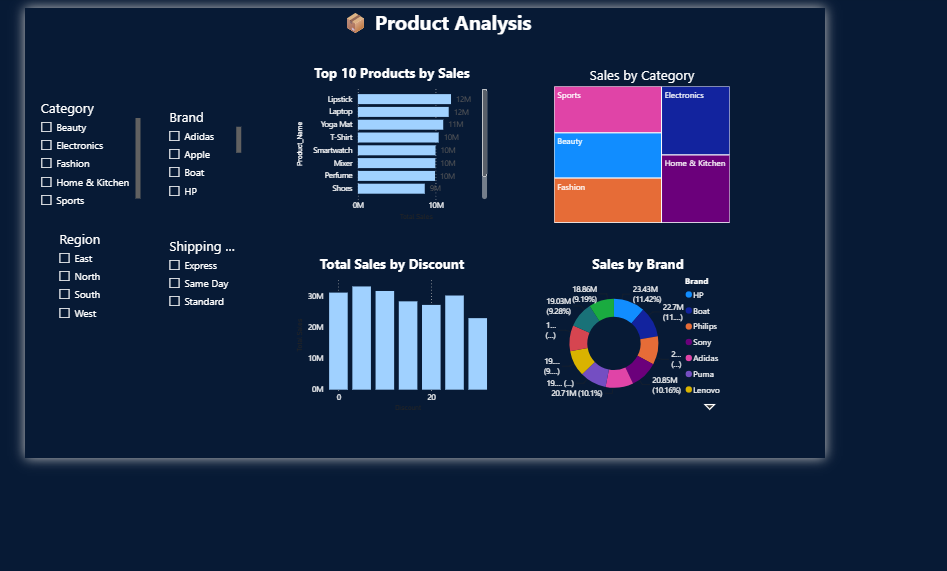

Layout of this report page (visuals, bound fields, positions):
{"tool":"powerbi","page":{"name":"Product Analysis","canvas":[1280,720],"ordinal":3},"visuals":[{"type":"shape","title":"📦 Product Analysis","box":[246,0,825,60],"z":0},{"type":"slicer","fields":{"Values":["Fact_Sales.Category"]},"box":[12.8,139,177.5,181.8],"z":1000},{"type":"slicer","fields":{"Values":["Fact_Sales.Region"]},"box":[42.8,350.8,117.6,158.3],"z":2000},{"type":"slicer","fields":{"Values":["Fact_Sales.Brand"]},"box":[218.2,154,132.6,151.9],"z":3000},{"type":"slicer","fields":{"Values":["Fact_Sales.Shipping Mode"]},"box":[218.2,359.4,149.7,149.7],"z":4000},{"type":"clusteredBarChart","title":"Top 10 Products by Sales","fields":{"Category":["Fact_Sales.Product_Name"],"Y":["Fact_Sales.Total Sales"]},"box":[430,87.7,314.4,256.7],"z":5000},{"type":"treemap","title":"Sales by Category","fields":{"Group":["Fact_Sales.Category"],"Values":["Fact_Sales.Total Sales"]},"box":[842.8,92,290.9,256.7],"z":6000},{"type":"donutChart","title":"Sales by Brand","fields":{"Category":["Fact_Sales.Brand"],"Y":["Fact_Sales.Total Sales"]},"box":[823.5,393.6,314,256.7],"z":7000},{"type":"columnChart","fields":{"Category":["Fact_Sales.Discount"],"Y":["Fact_Sales.Total Sales"]},"box":[430,393.6,314.4,256.7],"z":8000}]}

Visuals, with their boxes on the page's 1280x720 design canvas (x1, y1, x2, y2). These are canvas units, not pixel positions in the 947x571 screenshot, which may show the page scaled, cropped or inside an application window:
"📦 Product Analysis" shape: (x1=246, y1=0, x2=1071, y2=60)
slicer - Fact_Sales.Category: (x1=13, y1=139, x2=190, y2=321)
slicer - Fact_Sales.Region: (x1=43, y1=351, x2=160, y2=509)
slicer - Fact_Sales.Brand: (x1=218, y1=154, x2=351, y2=306)
slicer - Fact_Sales.Shipping Mode: (x1=218, y1=359, x2=368, y2=509)
"Top 10 Products by Sales" clusteredBarChart: (x1=430, y1=88, x2=744, y2=344)
"Sales by Category" treemap: (x1=843, y1=92, x2=1134, y2=349)
"Sales by Brand" donutChart: (x1=824, y1=394, x2=1138, y2=650)
columnChart - Fact_Sales.Discount x Fact_Sales.Total Sales: (x1=430, y1=394, x2=744, y2=650)
